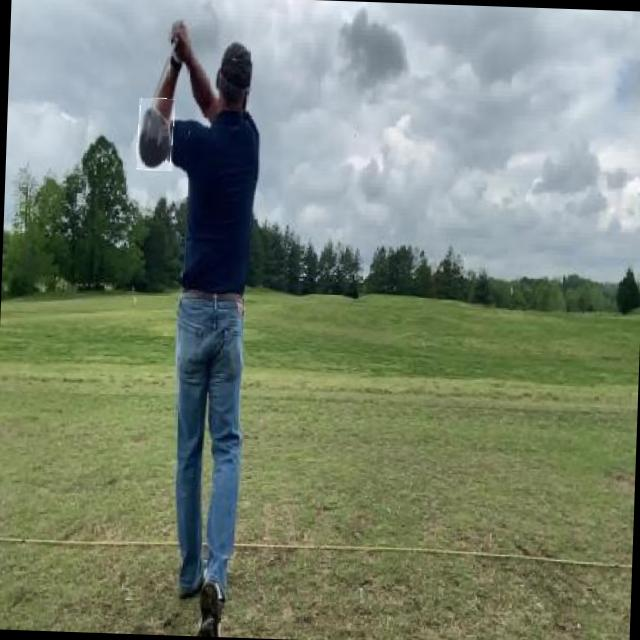club head: (136, 98, 174, 170)
